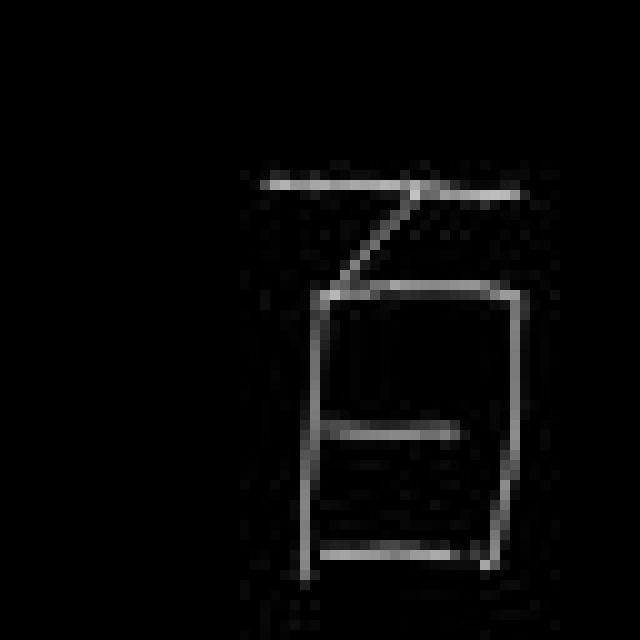100 -a hundred-: (247, 157, 533, 587)
